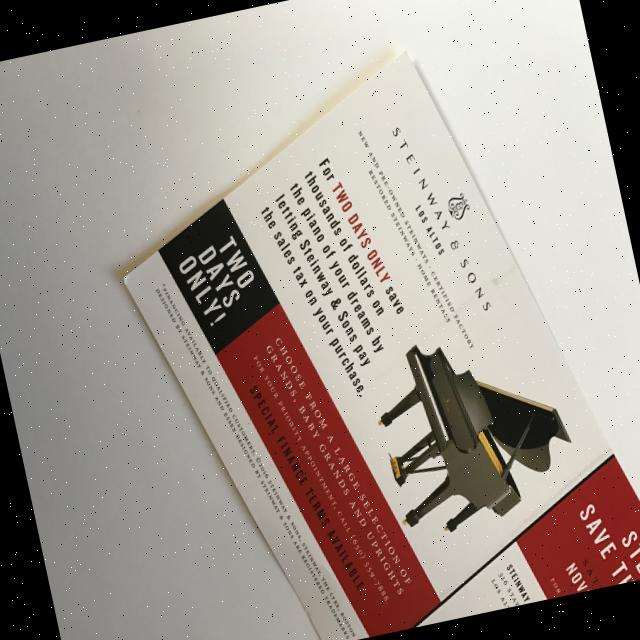paper: (87, 20, 640, 640)
